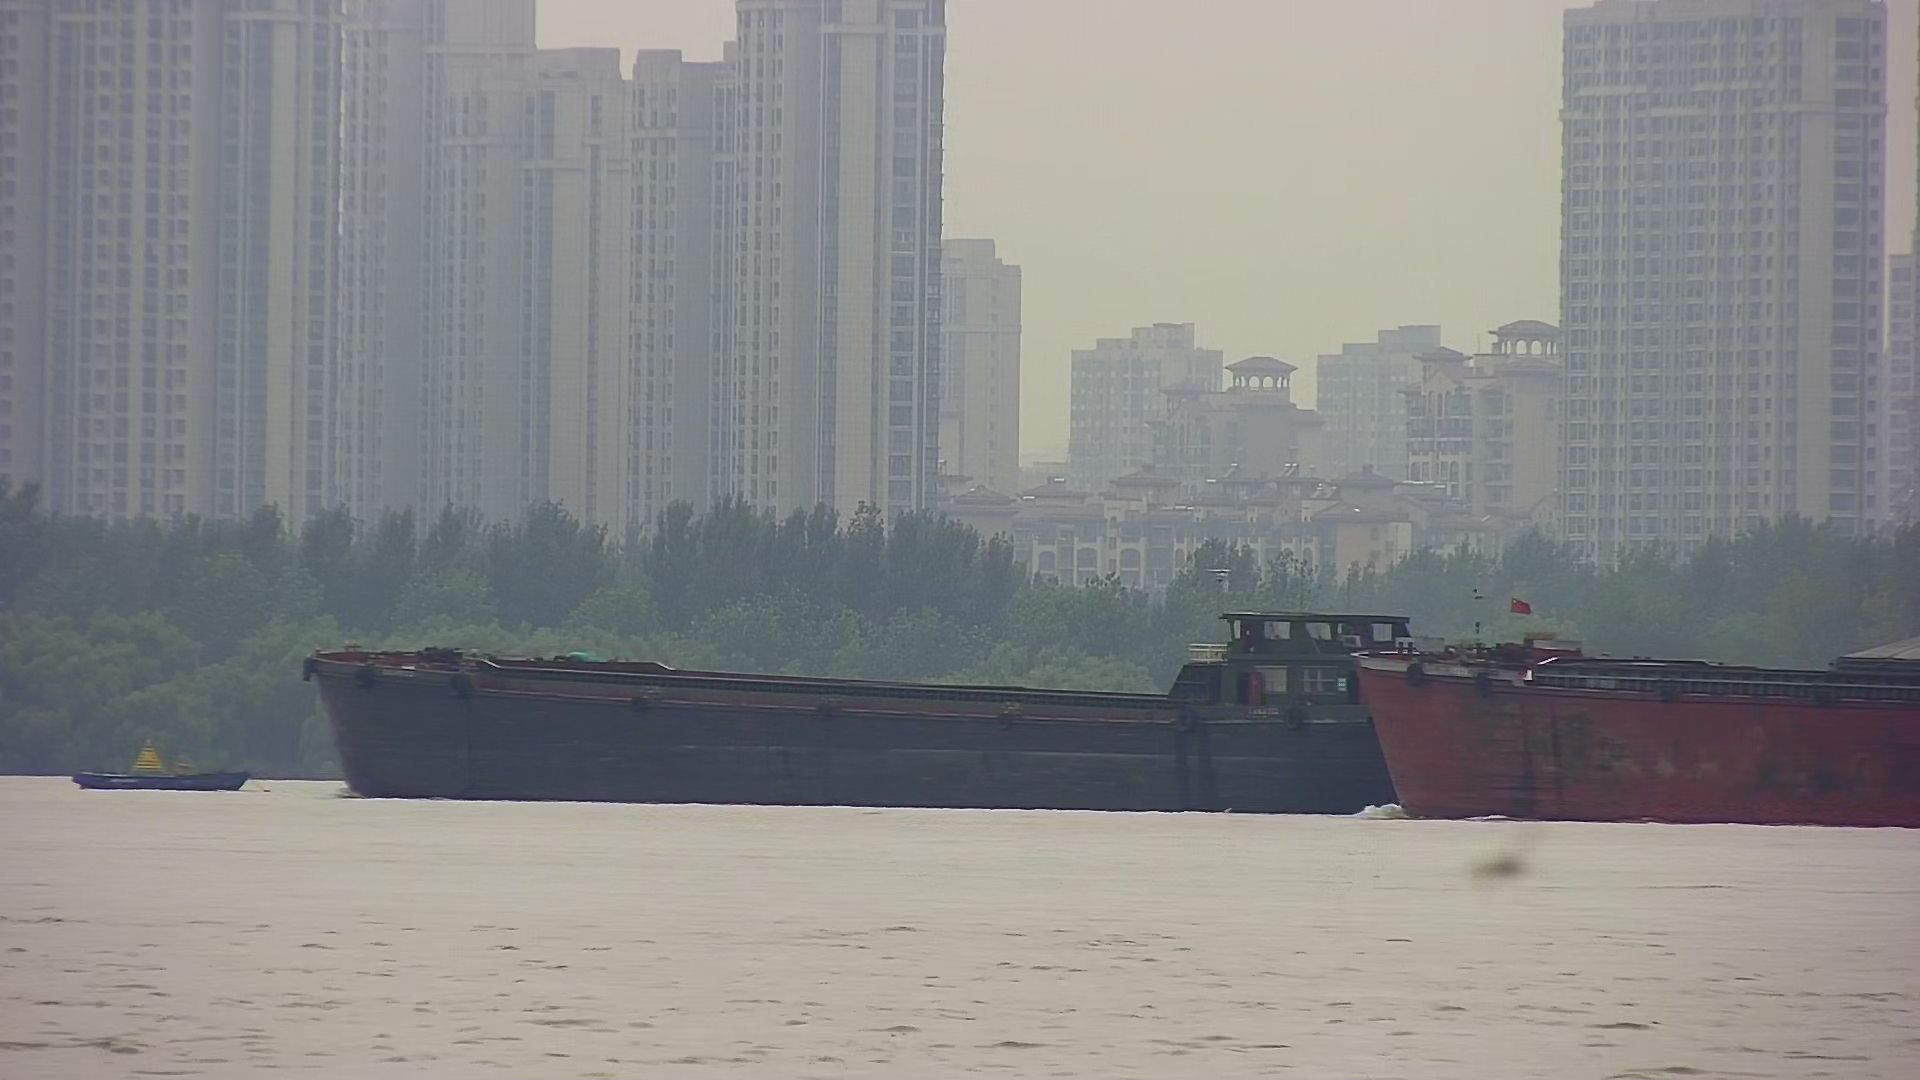boat: (74, 731, 248, 800)
ship: (305, 604, 1443, 818), (1356, 585, 1920, 832)
